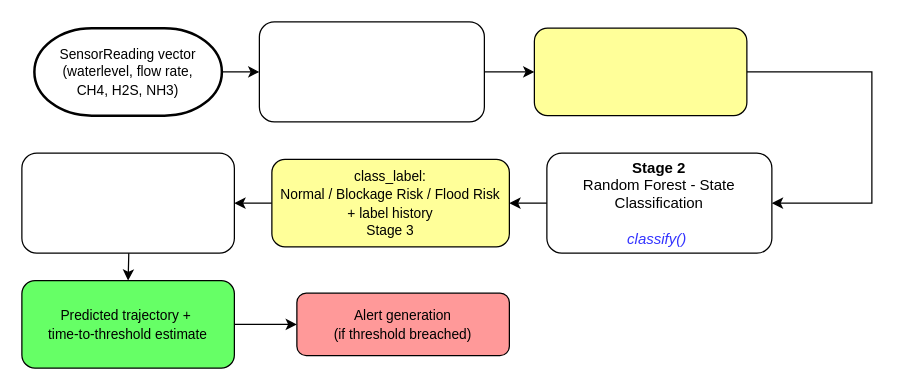
This 904x390 diagram has some shape labels left out. Each missing label, with the box of its shape:
anomaly_score (float) anomaly_flag (bool) appended to reading Stage 2 input: (533, 27, 747, 116)
Stage 1 Isolation Forest - Anomaly Detection computeScore() / flagAnomaly(): (258, 21, 484, 122)
Stage 3 LSTM - Flood Prediction predict(): (21, 152, 234, 253)
